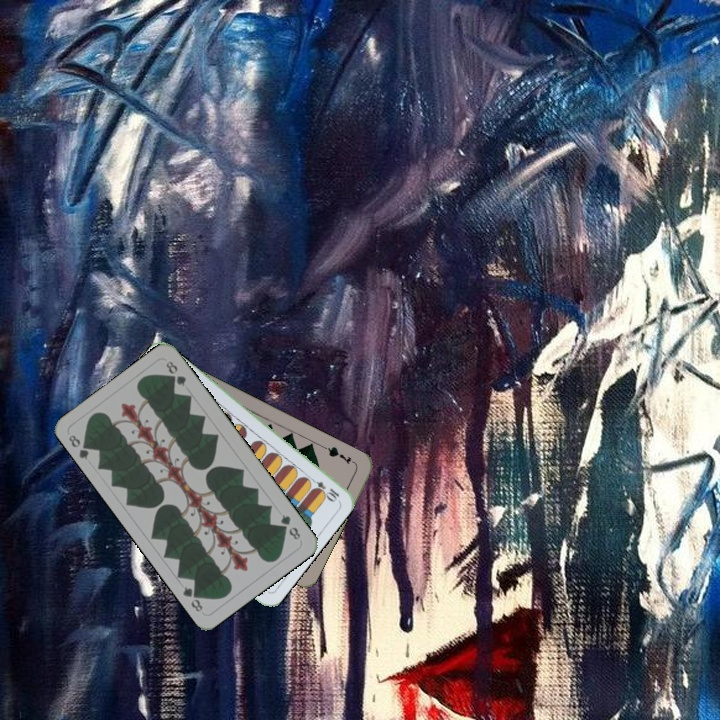E10: (305, 473, 342, 503)
G7: (320, 442, 358, 467)
G8: (64, 430, 94, 463), (276, 510, 303, 542)
